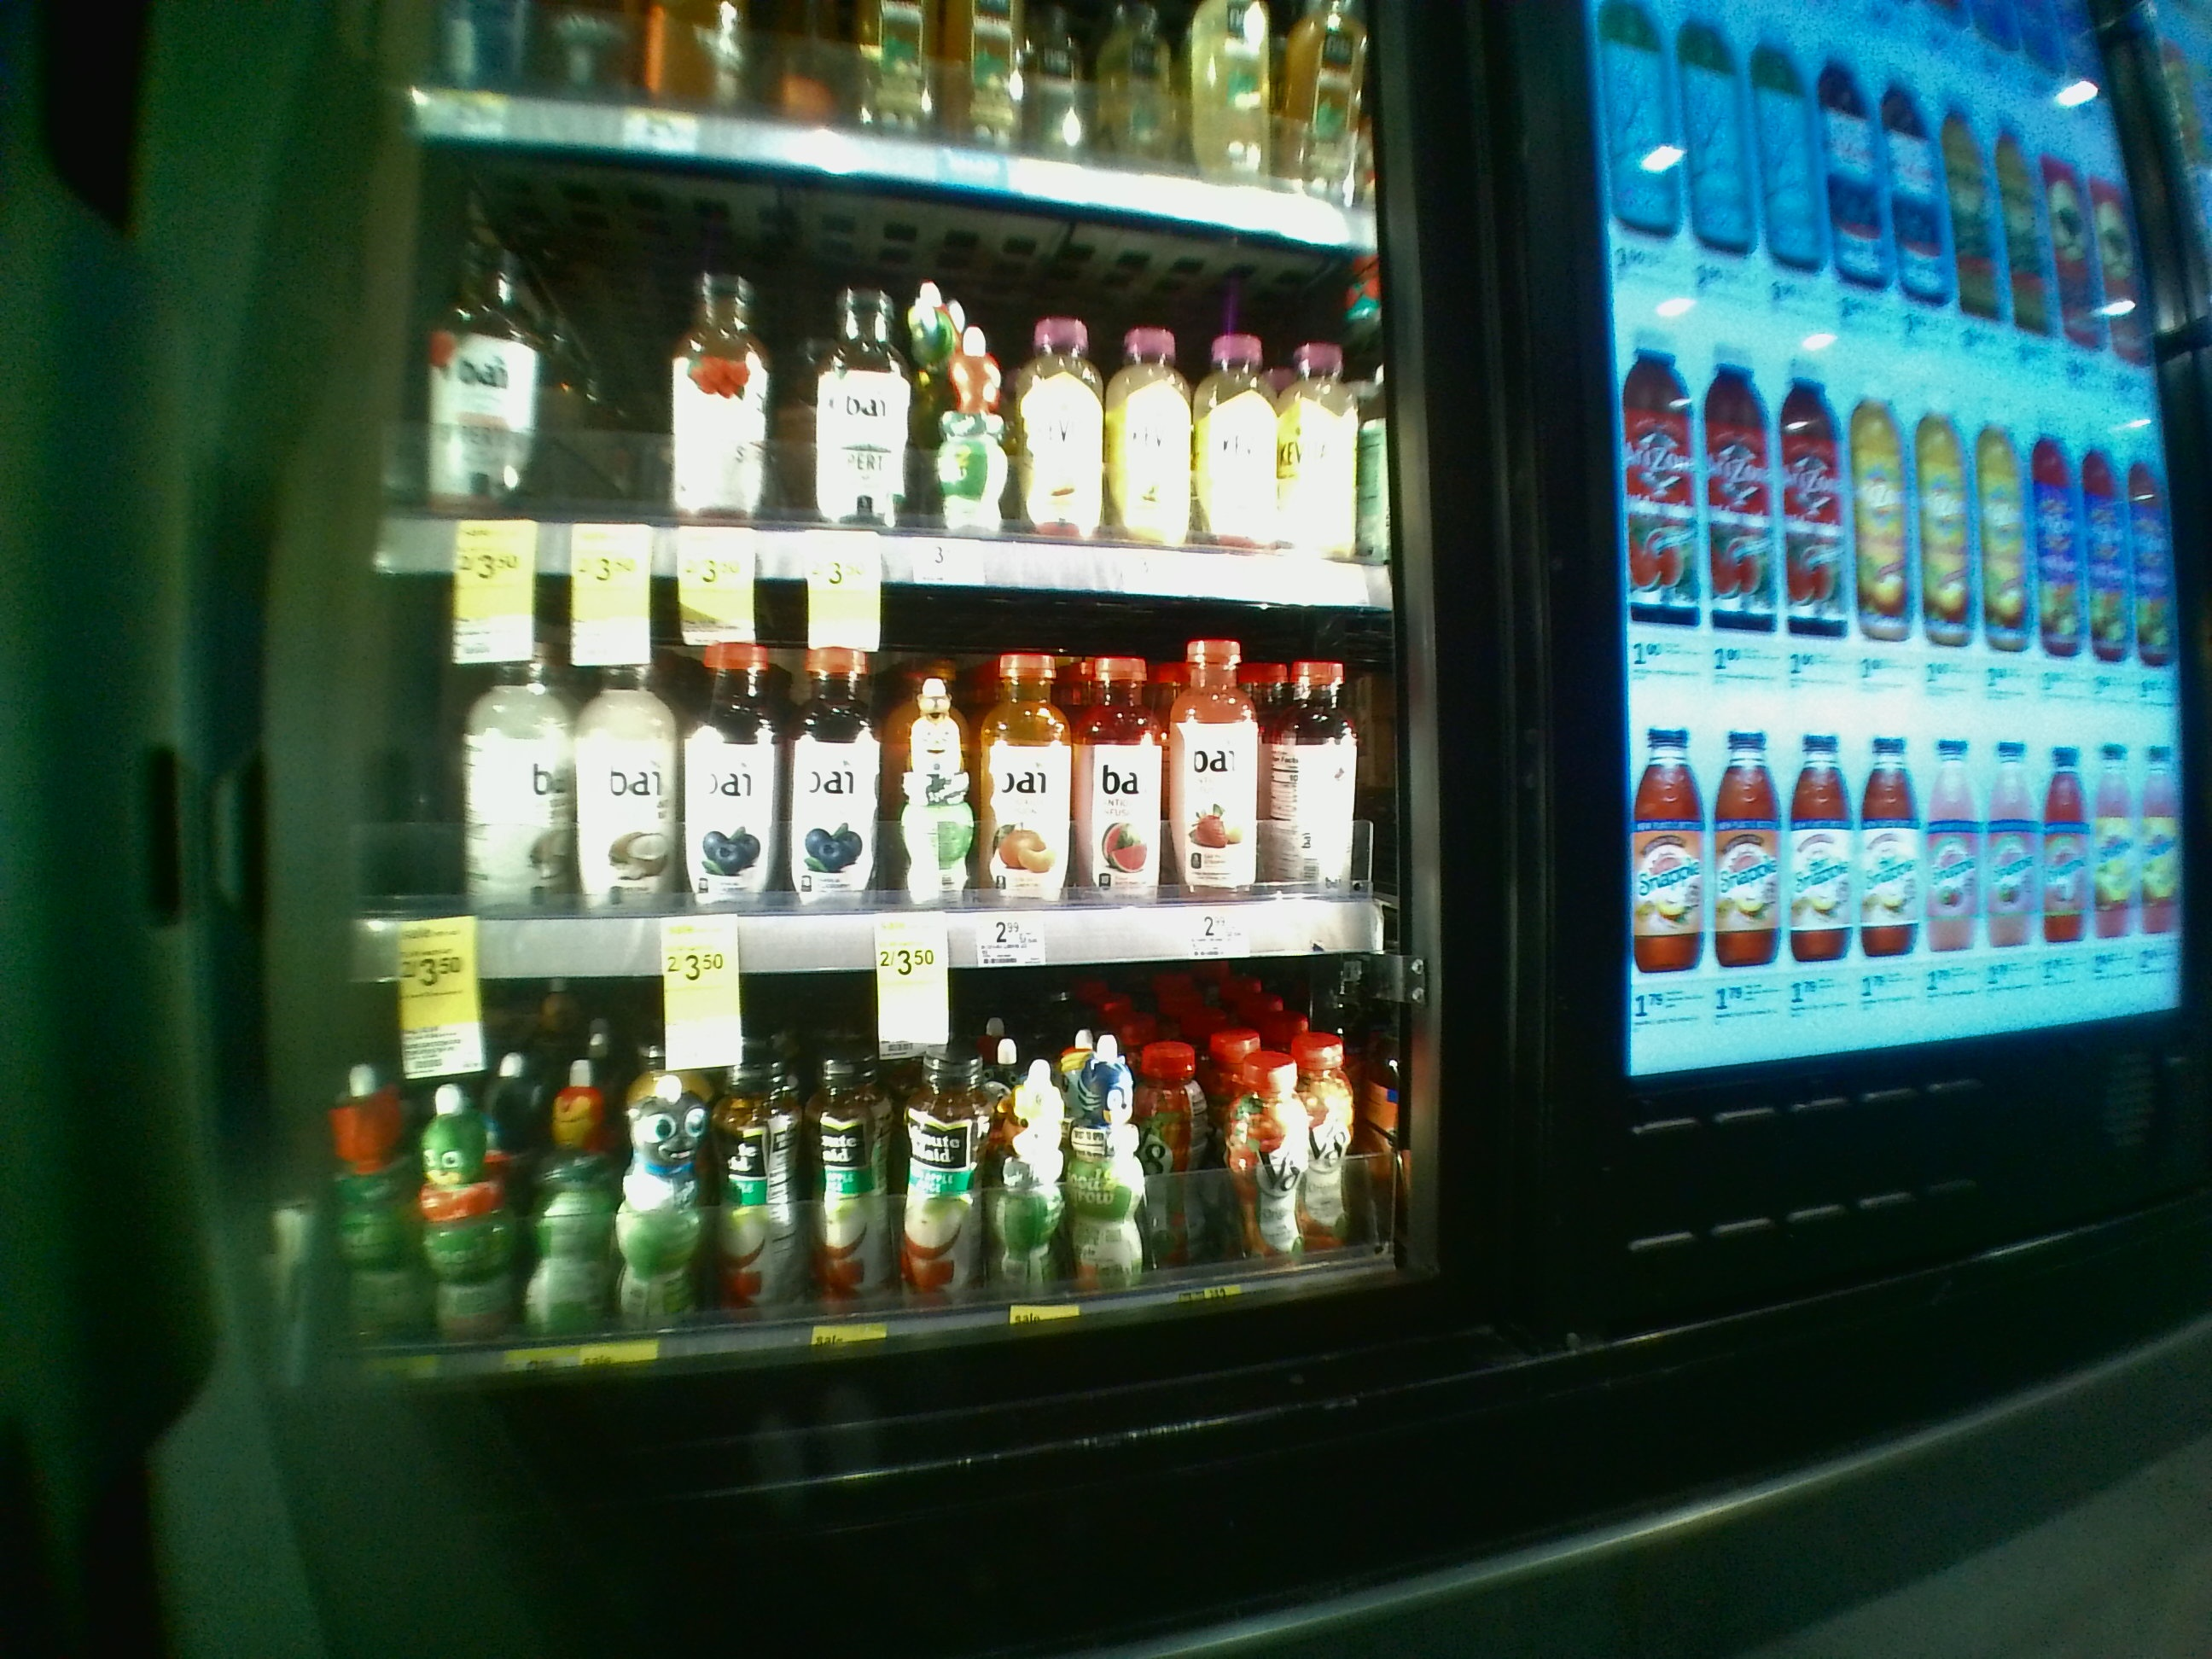shelf: (369, 134, 1399, 580), (354, 601, 1411, 993), (331, 1007, 1418, 1368)
